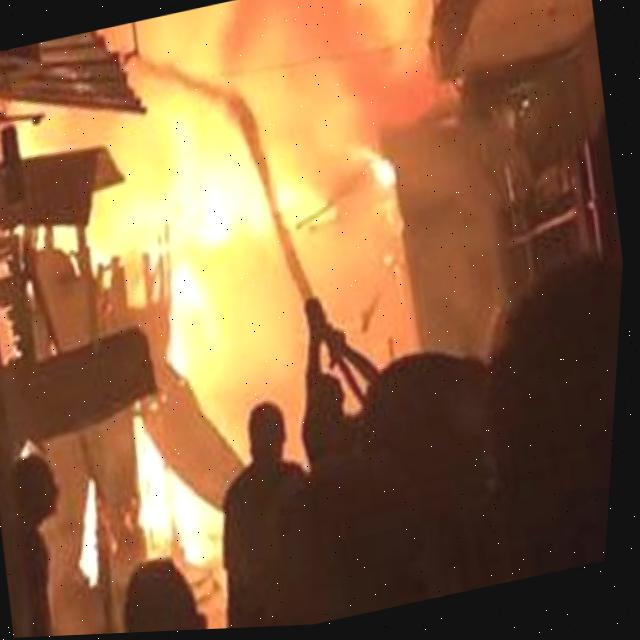fire: (24, 88, 335, 400)
smoke: (137, 0, 503, 356)
